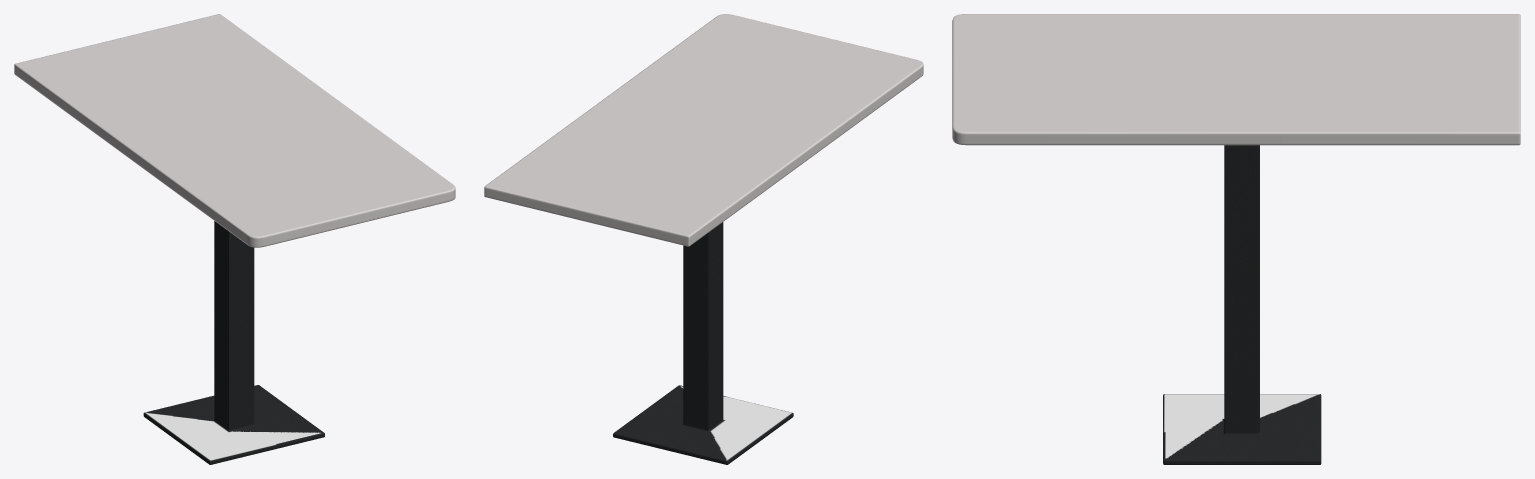
Rendered from Table.glb.
3 views of the same model, side by side, from view 1: azimuth 30°, elevation 25°; view 2: azimuth 150°, elevation 25°; view 3: azimuth 270°, elevation 25° (orthographic). The views are drawn at different scales.
Visible parts, largest first — view 1: Table, Table.Base; view 2: Table, Table.Base; view 3: Table, Table.Base.
Boxes of the visible parts, x1=… form: Table: x1=14, y1=14, x2=455, y2=247; Table.Base: x1=143, y1=221, x2=324, y2=464; Table: x1=484, y1=14, x2=923, y2=246; Table.Base: x1=613, y1=222, x2=793, y2=464; Table: x1=952, y1=14, x2=1520, y2=145; Table.Base: x1=1163, y1=145, x2=1321, y2=464.
Bounding box in the file's own units: 0.5 × 0.701 × 1.01.
2 materials, 2 textured.
